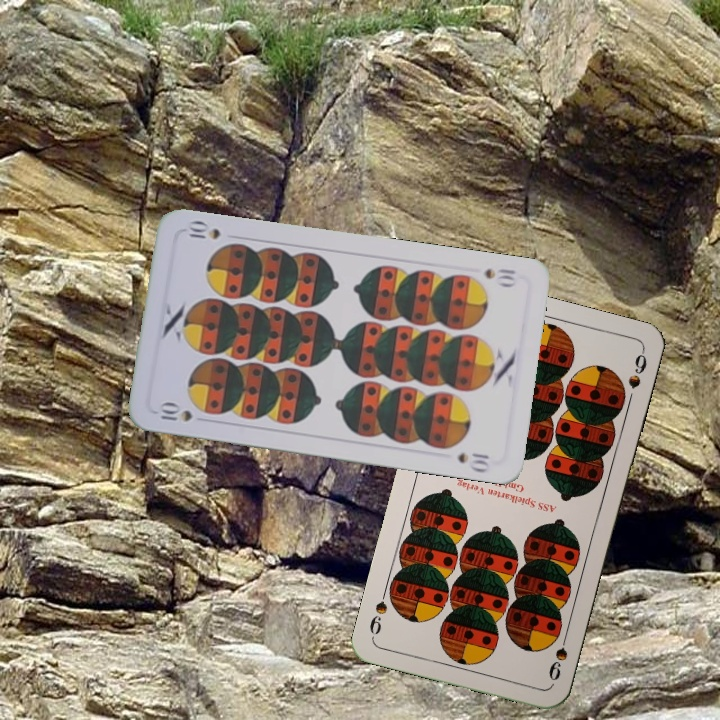S10: (480, 264, 519, 290), (156, 400, 195, 424)
S9: (544, 627, 571, 684)
